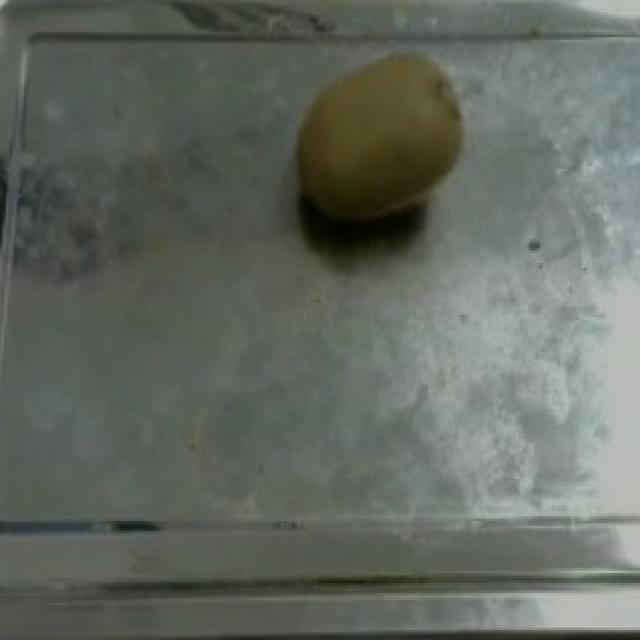Fruit: (274, 42, 474, 241)
